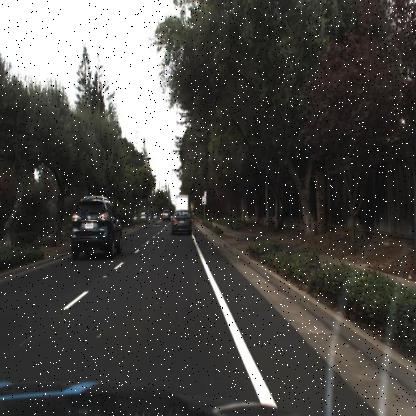car: (70, 194, 124, 262), (169, 207, 194, 236), (160, 206, 172, 226)
truck: (172, 192, 190, 216)
